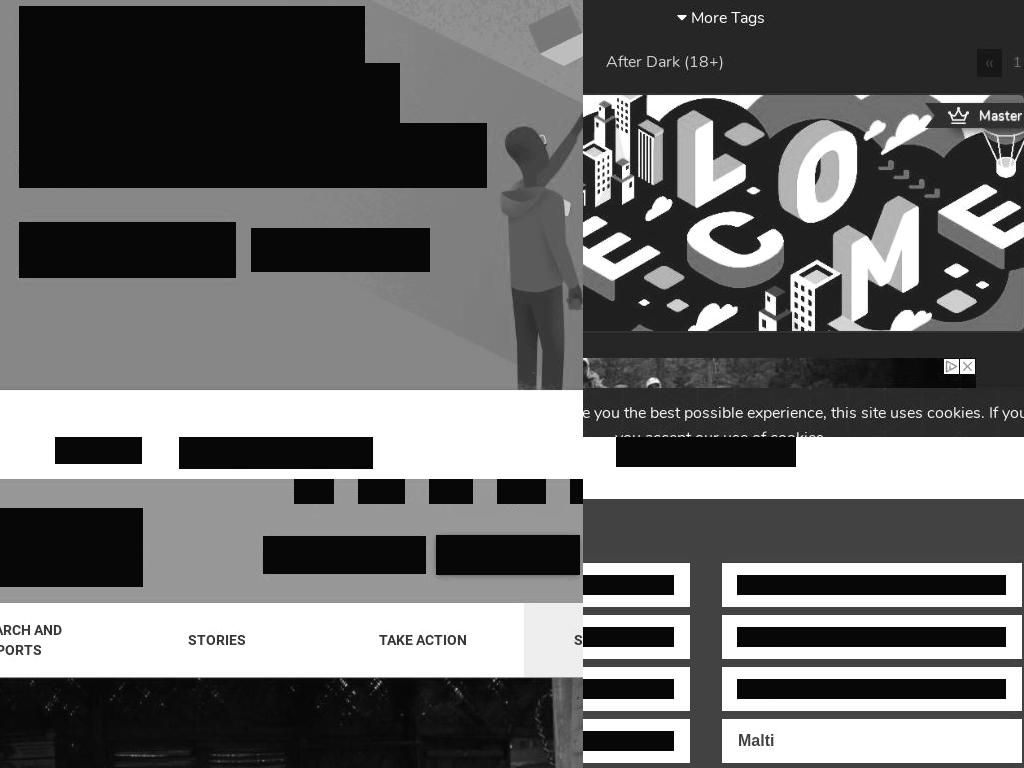button: (19, 222, 236, 278), (0, 508, 143, 587), (590, 42, 750, 99), (590, 109, 750, 166), (251, 228, 430, 272), (590, 39, 740, 83), (179, 437, 373, 469), (263, 536, 426, 574), (436, 535, 580, 575), (583, 79, 760, 108), (590, 0, 750, 32), (723, 153, 878, 182), (524, 603, 583, 677), (768, 116, 918, 145), (589, 42, 724, 71), (891, 79, 1016, 108), (766, 79, 885, 108), (792, 5, 906, 34), (871, 190, 984, 219), (912, 5, 1024, 34), (671, 190, 781, 219), (705, 227, 815, 256), (653, 116, 762, 145), (915, 227, 1024, 256), (583, 5, 689, 34), (922, 42, 1024, 71), (924, 116, 1024, 145), (617, 153, 717, 182), (824, 42, 916, 71), (607, 227, 699, 256), (695, 5, 786, 34), (730, 42, 818, 71), (821, 227, 909, 256), (583, 190, 665, 219), (787, 190, 865, 219), (884, 153, 961, 182), (583, 116, 647, 145), (967, 153, 1024, 182), (947, 107, 1022, 124), (497, 479, 546, 504), (358, 479, 405, 504), (429, 479, 473, 504), (294, 479, 334, 504), (990, 190, 1024, 219), (583, 153, 611, 182), (1005, 52, 1024, 74), (570, 479, 583, 504)
heading: (19, 6, 365, 186), (19, 123, 487, 188), (19, 63, 400, 128)
iframe: (583, 358, 976, 437)
image: (0, 678, 583, 768), (616, 437, 796, 467)
link: (137, 620, 296, 660), (343, 620, 502, 660), (737, 575, 1006, 595), (737, 627, 1006, 647), (737, 679, 1006, 699), (737, 731, 1006, 751), (0, 620, 90, 660), (583, 575, 674, 595), (583, 627, 674, 647), (583, 679, 674, 699), (583, 731, 674, 751), (259, 238, 284, 262)
text: (583, 402, 1024, 437), (592, 82, 728, 104), (0, 557, 143, 576), (291, 239, 420, 259), (734, 156, 846, 178), (779, 119, 886, 141), (55, 437, 142, 464), (902, 82, 984, 104), (276, 547, 388, 563), (600, 45, 681, 67), (687, 7, 765, 29), (777, 82, 853, 104), (926, 230, 1002, 252), (923, 8, 994, 30), (882, 193, 952, 215), (596, 11, 744, 21), (596, 78, 744, 88), (596, 145, 744, 155), (682, 193, 749, 215), (716, 230, 783, 252), (664, 119, 730, 141), (933, 45, 998, 67), (583, 8, 646, 30), (935, 119, 998, 141), (639, 54, 701, 76), (803, 8, 863, 30), (628, 156, 685, 178), (643, 121, 697, 143), (832, 230, 885, 252), (583, 193, 633, 215), (835, 45, 884, 67), (618, 230, 667, 252), (978, 156, 1024, 178), (741, 45, 786, 67), (706, 8, 743, 30), (798, 193, 833, 215), (895, 156, 929, 178), (583, 119, 615, 141), (979, 108, 1022, 123), (646, 11, 681, 29), (743, 11, 778, 29), (863, 11, 898, 29), (681, 48, 716, 66), (994, 11, 1024, 29), (786, 48, 810, 66), (884, 48, 908, 66), (998, 48, 1022, 66), (728, 85, 752, 103), (853, 85, 877, 103), (984, 85, 1008, 103), (615, 122, 639, 140), (730, 122, 754, 140), (886, 122, 910, 140), (998, 122, 1022, 140), (685, 159, 709, 177), (846, 159, 870, 177), (929, 159, 953, 177), (633, 196, 657, 214), (749, 196, 773, 214), (833, 196, 857, 214), (952, 196, 976, 214), (667, 233, 691, 251), (783, 233, 807, 251), (648, 0, 692, 9), (583, 159, 603, 177), (885, 233, 901, 251), (1002, 233, 1018, 251), (583, 233, 593, 251)
